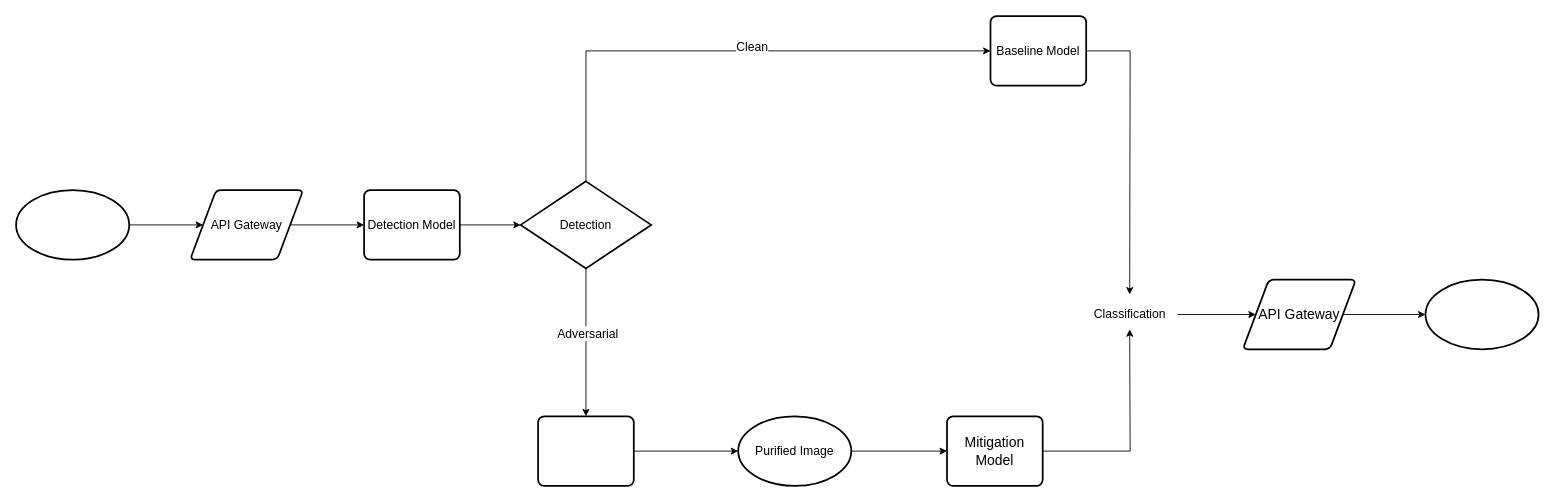
Image size: 1554x501. Some labels were removed from this diagram. Here are the shapes that lost their labels. From the top down, the centre of each, then its label:
(72,224): Input Image
(1481,314): Output Image
(585,450): Purification Model
